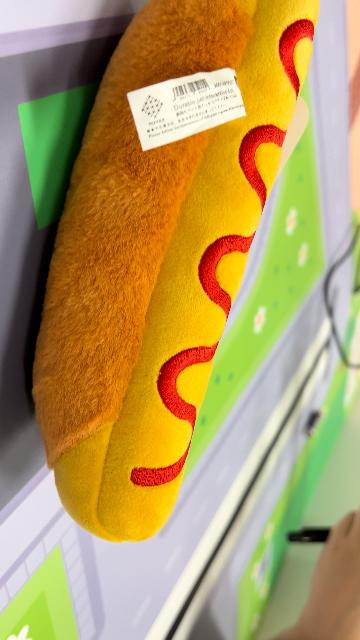hotdog: (31, 2, 321, 544)
